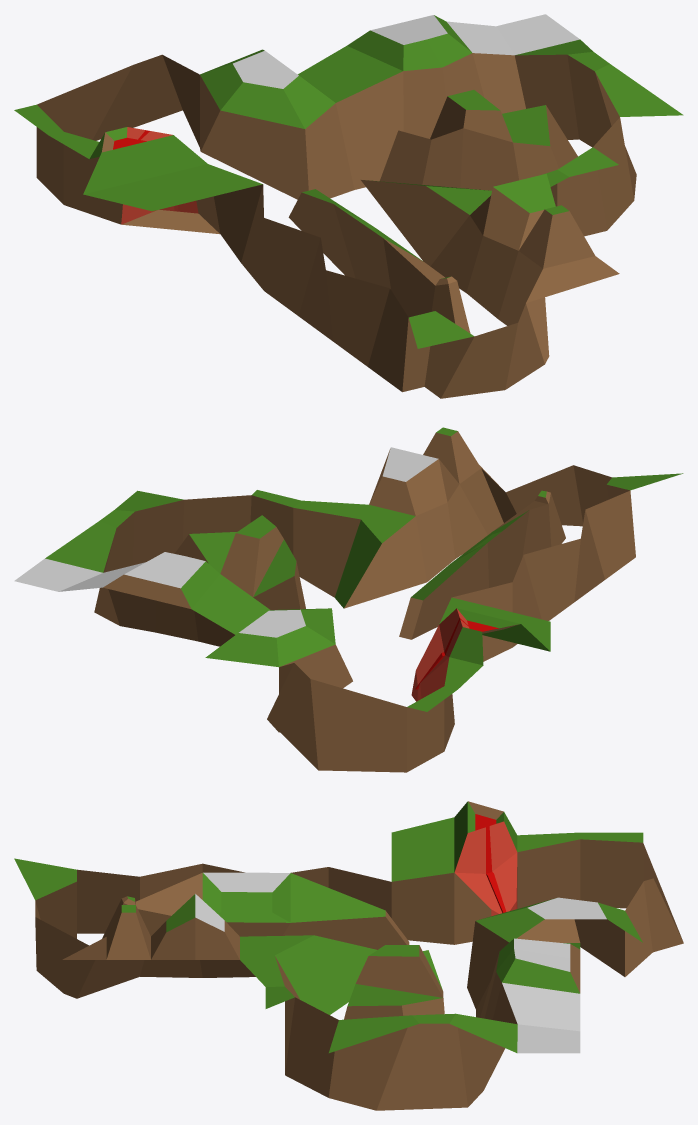
Rendered from Map2.2.fbx.
3 views of the same model, one above another, from view 1: azimuth 30°, elevation 25°; view 2: azimuth 150°, elevation 25°; view 3: azimuth 270°, elevation 25° (orthographic). The views are drawn at different scales.
Visible parts, largest first — view 1: Plane; view 2: Plane; view 3: Plane.
Part boxes in pixels (bbox=[...]): Plane: bbox=[14, 14, 683, 398]; Plane: bbox=[14, 427, 683, 772]; Plane: bbox=[14, 801, 683, 1110].
Bounding box in the file's own units: 2849 × 621 × 3415.
